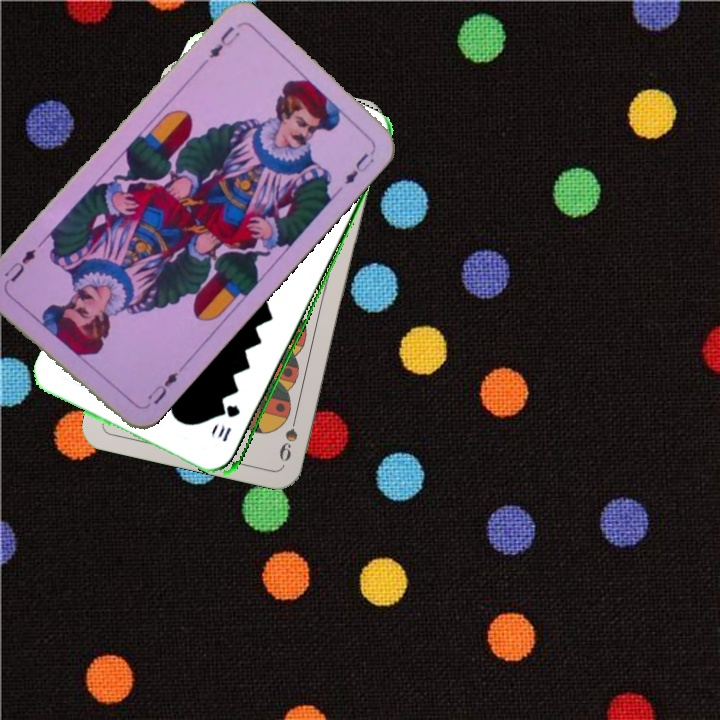EU: (143, 363, 186, 407), (205, 22, 243, 61)
G10: (214, 401, 243, 445)
S9: (275, 407, 301, 464)
